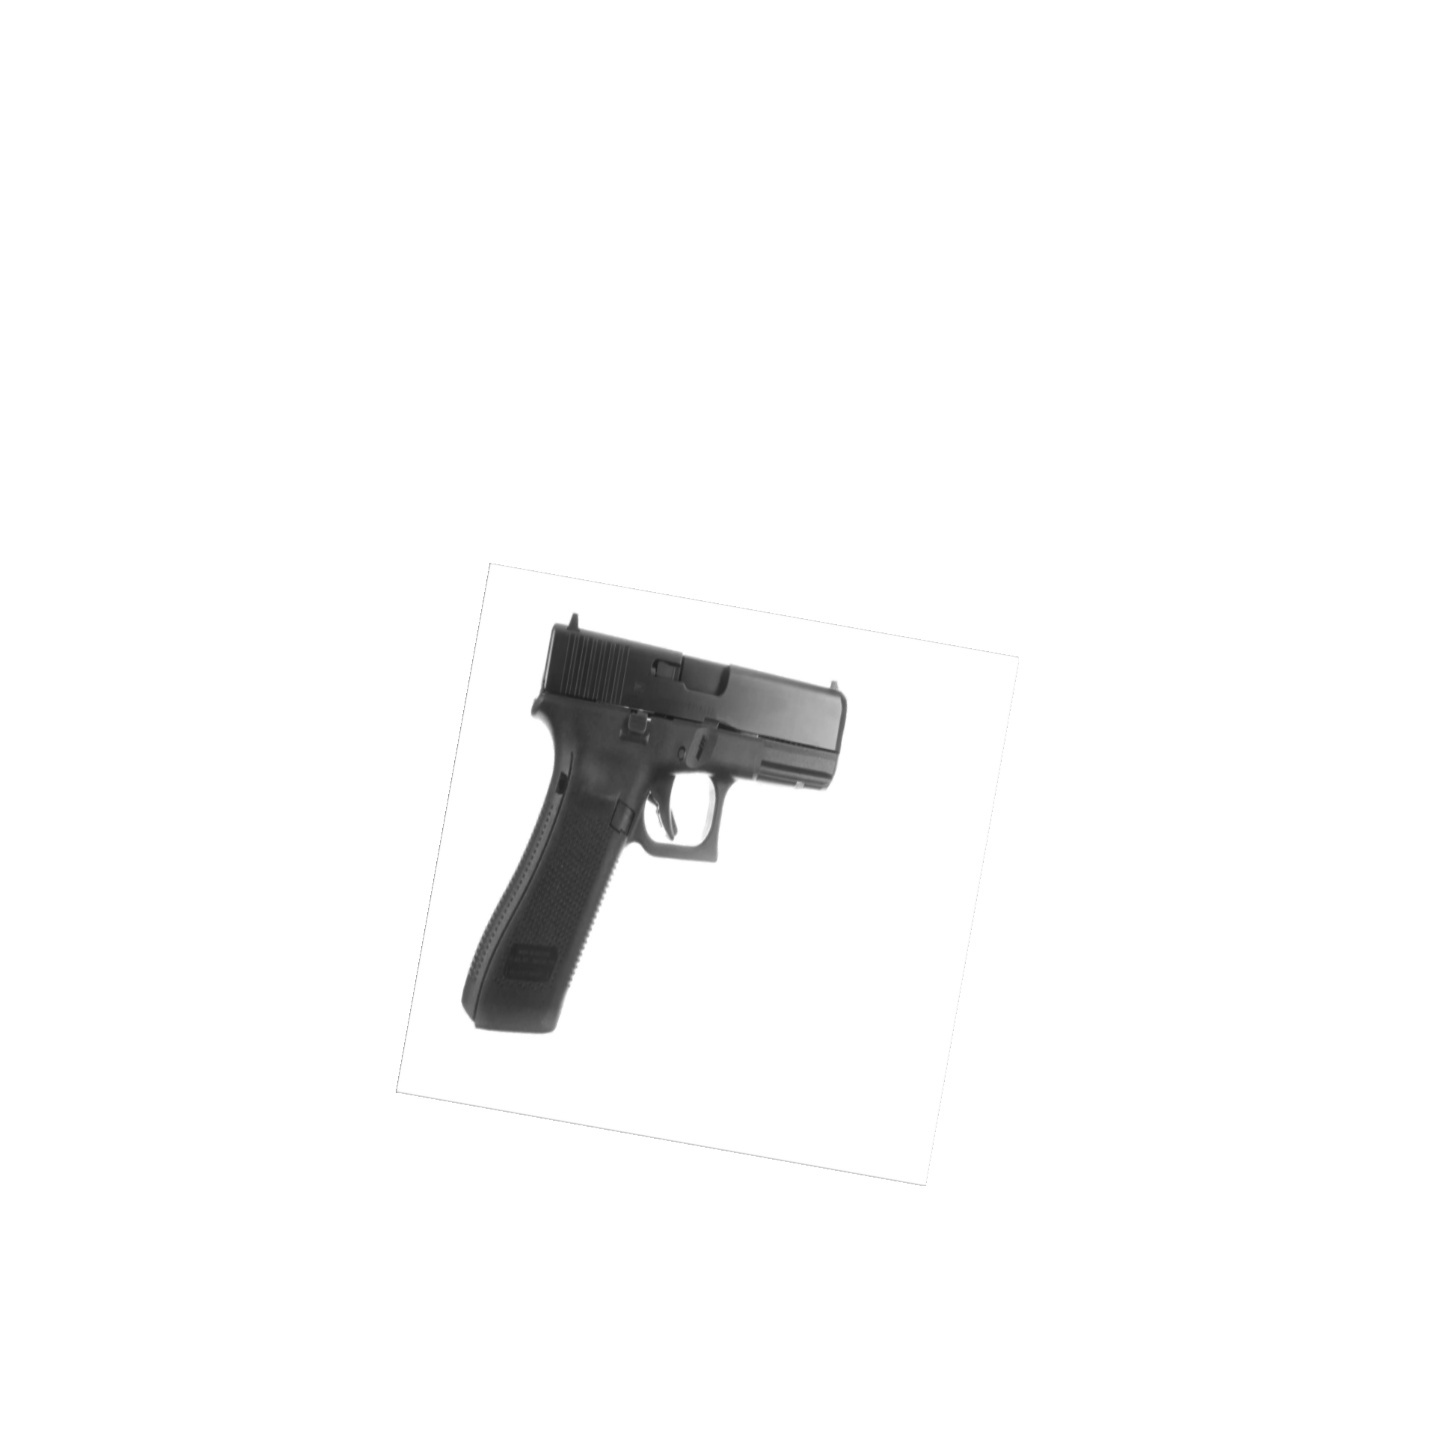gun: (464, 614, 848, 1032)
